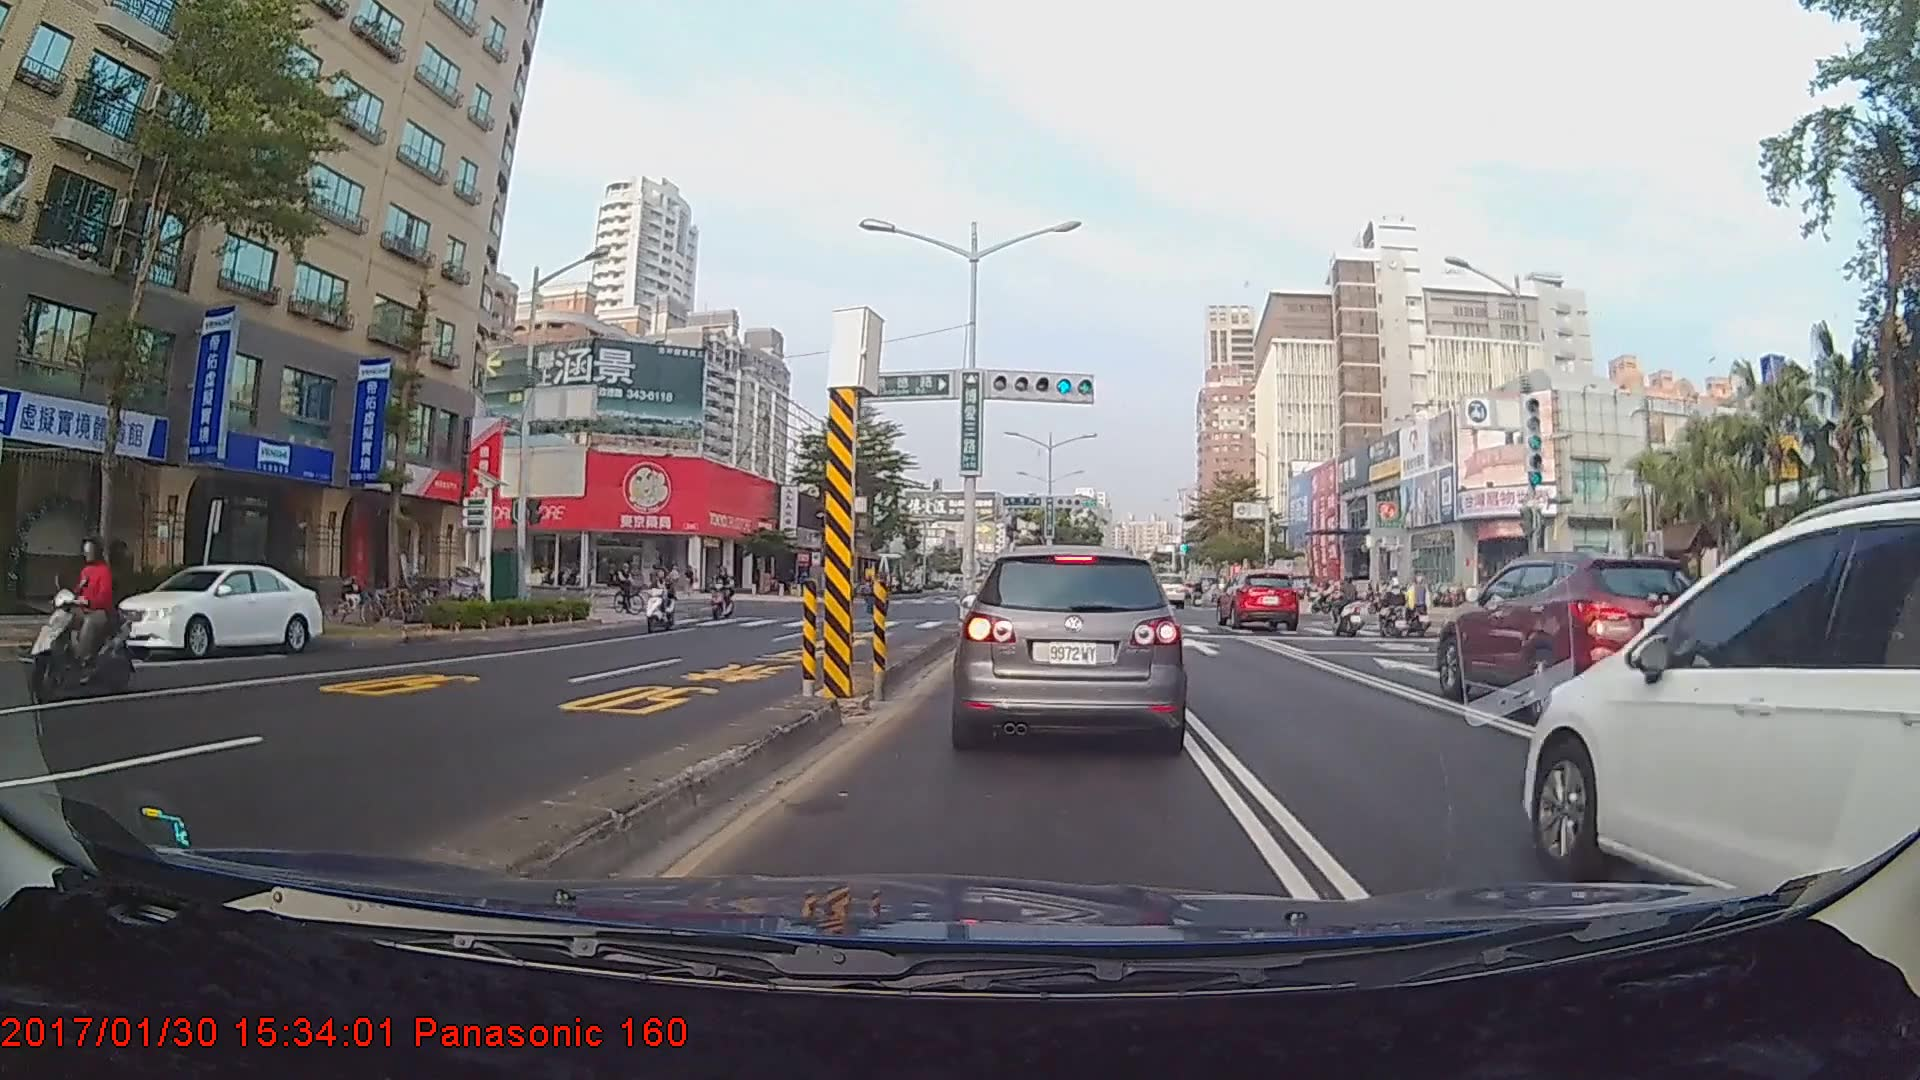rider: (19, 537, 136, 700), (1322, 574, 1375, 640), (1370, 576, 1419, 640), (642, 566, 683, 639), (613, 558, 650, 623), (713, 568, 744, 624)
vehicle: (1520, 502, 1920, 884), (956, 541, 1188, 750), (1436, 550, 1720, 716), (110, 561, 320, 658), (1217, 569, 1301, 631), (1148, 570, 1185, 607)
